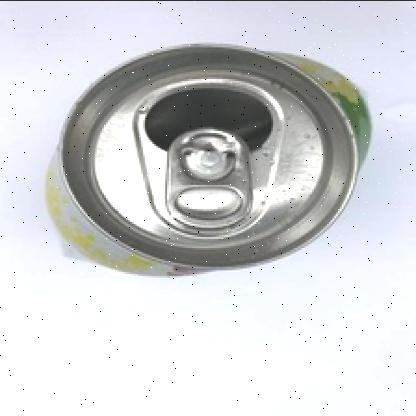Can: (33, 17, 384, 306)
